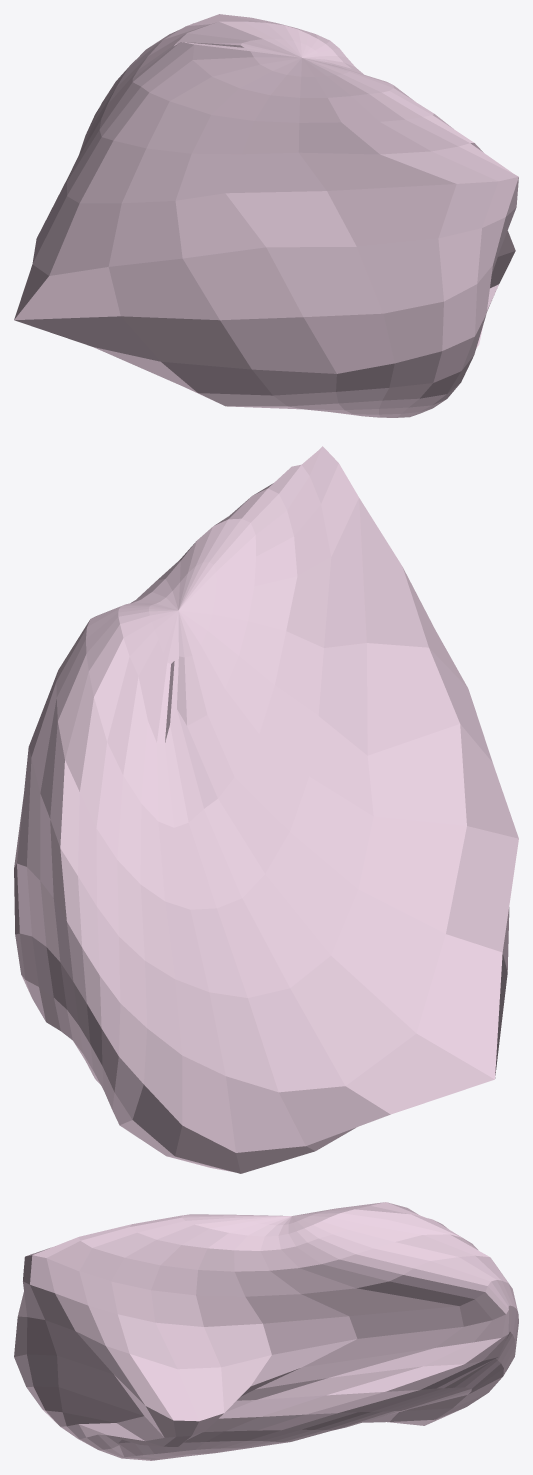
File: Asteroid type 2.fbx
3 views of the same model, one above another, from view 1: azimuth 30°, elevation 25°; view 2: azimuth 150°, elevation 25°; view 3: azimuth 270°, elevation 25° (orthographic). The views are drawn at different scales.
Parts seen in each view (by area): view 1: Sphere; view 2: Sphere; view 3: Sphere.
Boxes of the visible parts, x1=… form: Sphere: x1=14, y1=14, x2=518, y2=417; Sphere: x1=14, y1=446, x2=518, y2=1173; Sphere: x1=14, y1=1202, x2=518, y2=1460.
Bounding box in the file's own units: 3.93 × 2.91 × 5.14.
